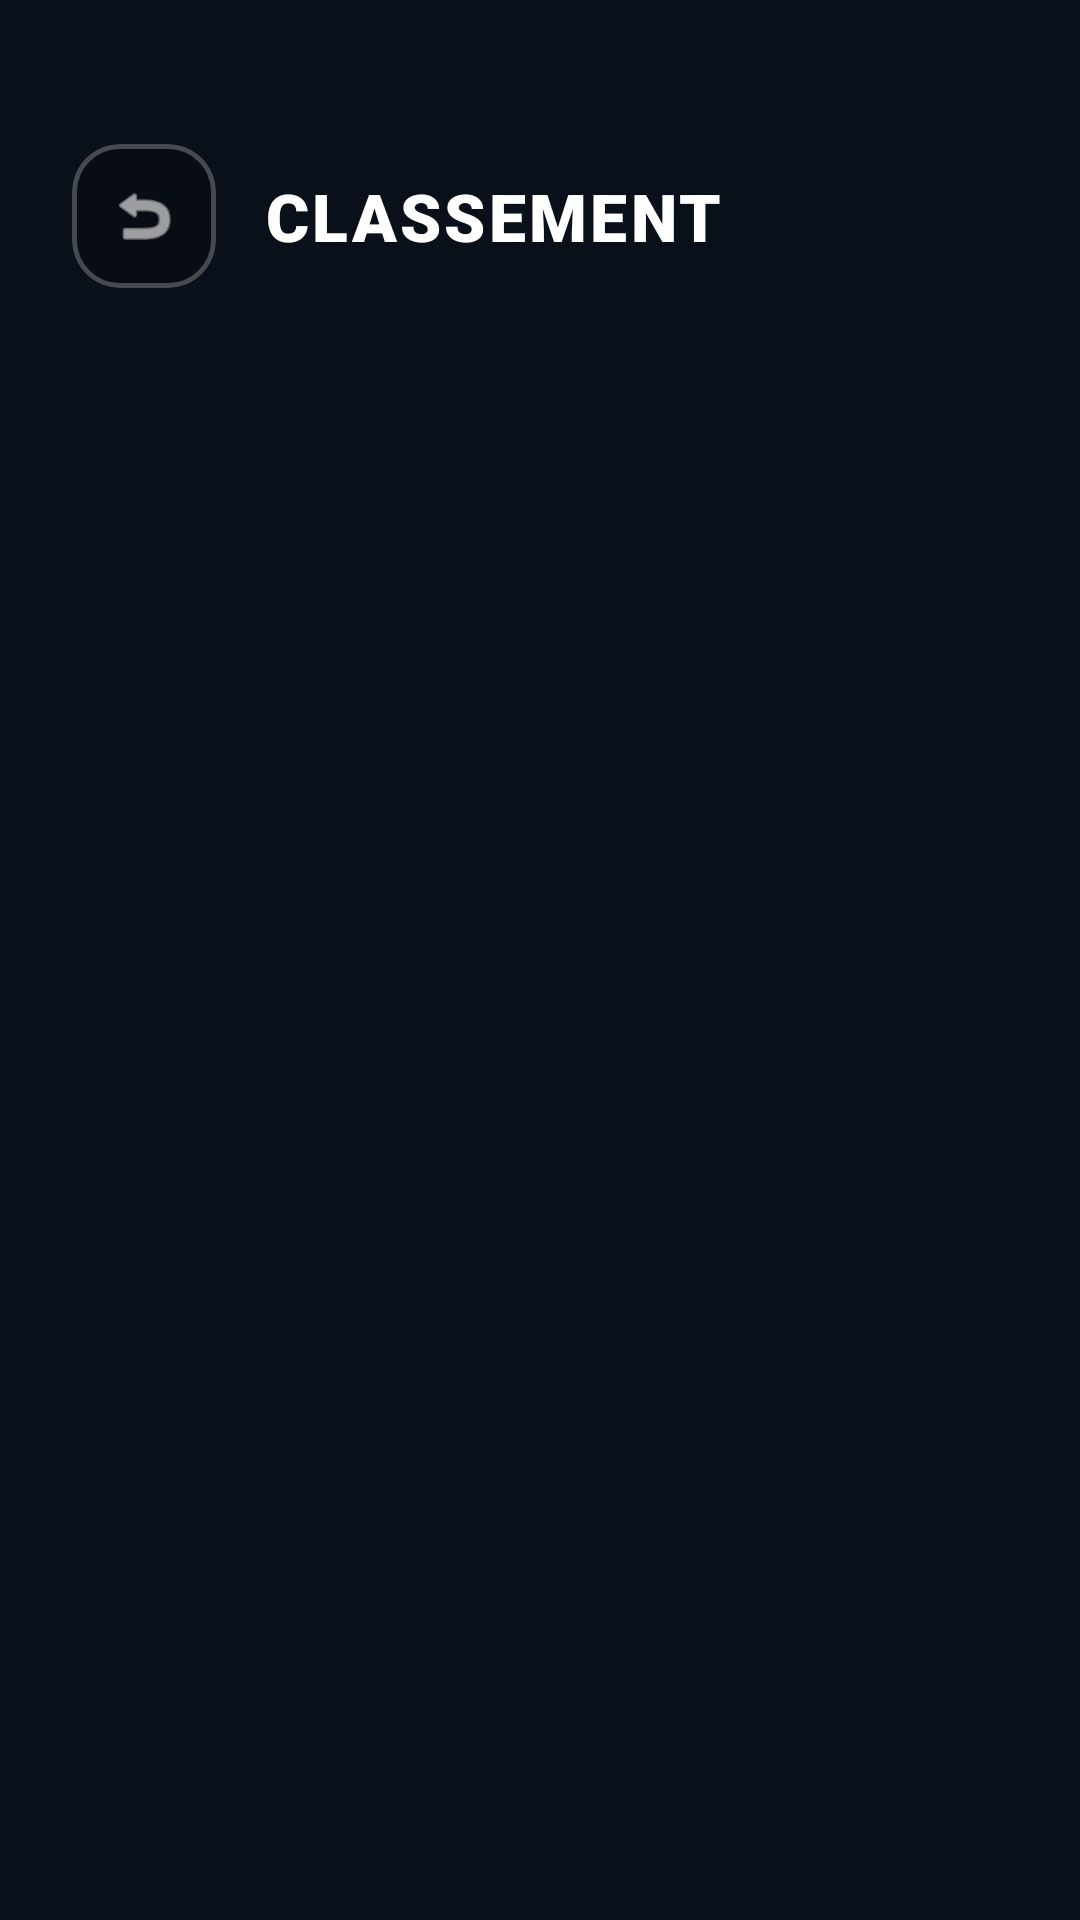

Where to tap for icons on this 1080px×1920px app screen, as [x,y]:
revert: [144,216]
